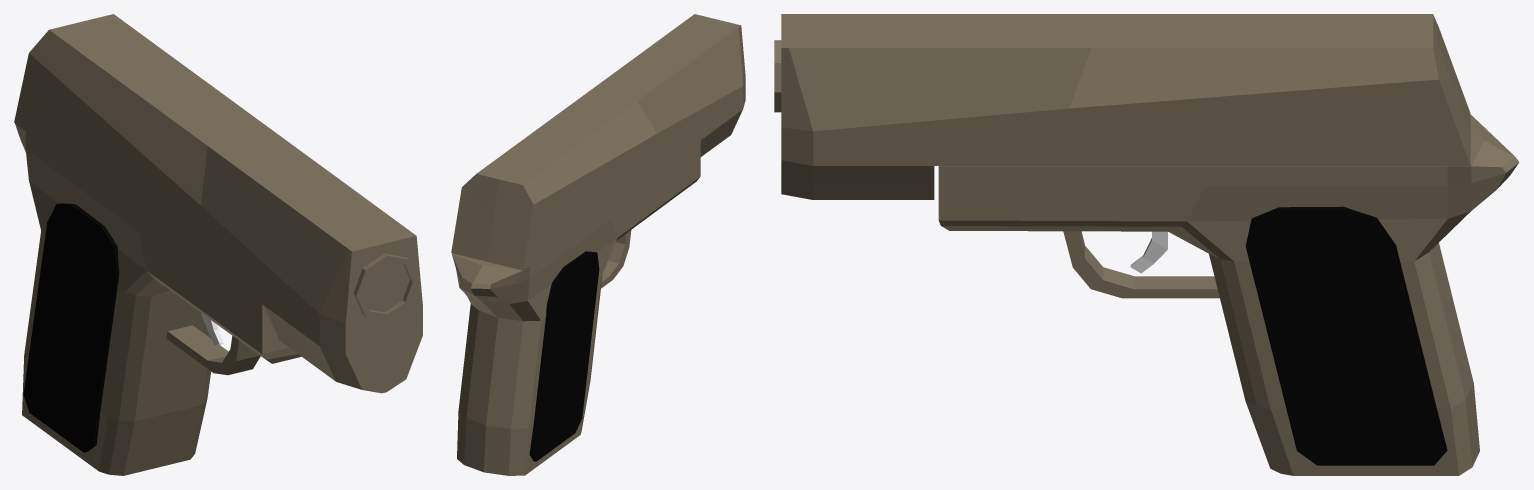
Rendered from pistolSingle.fbx.
The picture shows the model from 3 angles, left to right: view 1: azimuth 30°, elevation 25°; view 2: azimuth 150°, elevation 25°; view 3: azimuth 270°, elevation 25°; orthographic projection. The views are drawn at different scales.
Parts seen in each view (by area): view 1: Body.002; view 2: Body.002; view 3: Body.002.
Boxes of the visible parts, x1,y1,x2,y2 form: Body.002: (14,14,422,475); Body.002: (451,14,745,475); Body.002: (774,14,1519,475).
Bounding box in the file's own units: 0.3437 × 1.26 × 2.01.
